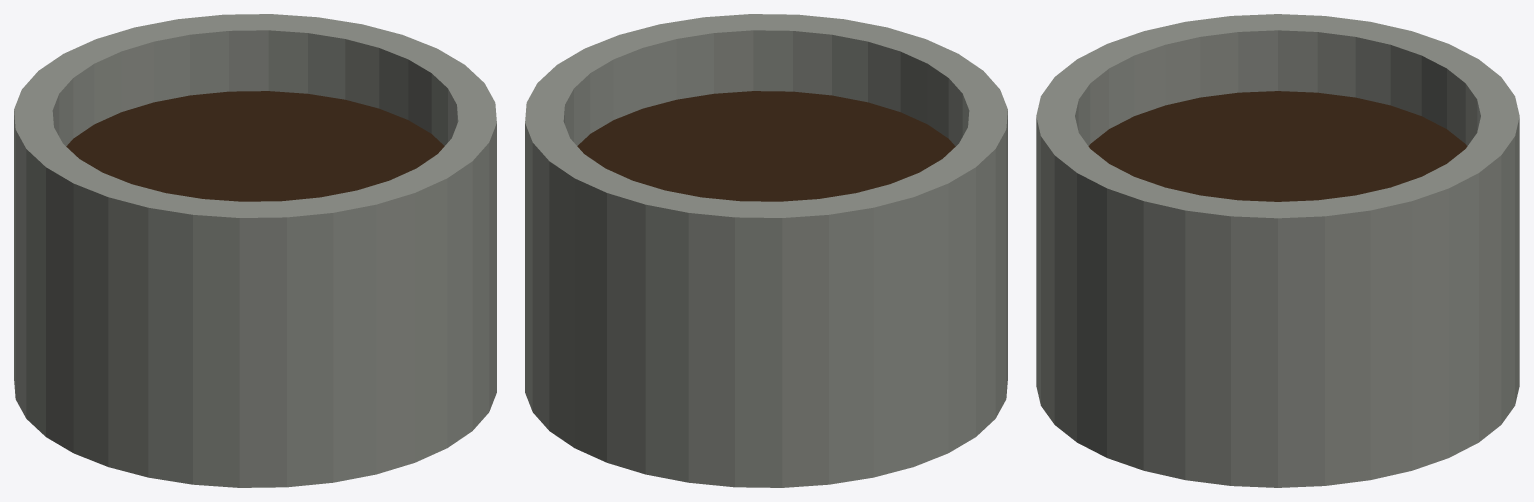
The model's file is planter-round.lod0.glb.
3 renders of one model, left to right at view 1: azimuth 30°, elevation 25°; view 2: azimuth 150°, elevation 25°; view 3: azimuth 270°, elevation 25°, orthographic.
Visible parts, largest first — view 1: planter-round-shell-and-soil; view 2: planter-round-shell-and-soil; view 3: planter-round-shell-and-soil.
Boxes of the visible parts, bbox=[...] form: planter-round-shell-and-soil: bbox=[14, 14, 496, 487]; planter-round-shell-and-soil: bbox=[525, 14, 1007, 487]; planter-round-shell-and-soil: bbox=[1036, 14, 1519, 487].
Bounding box in the file's own units: 0.65 × 0.4 × 0.65.
